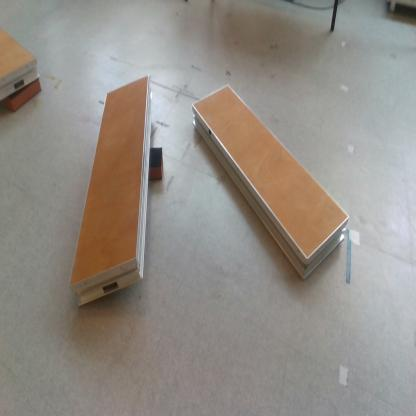Stairs: (190, 84, 351, 286), (69, 76, 156, 316), (1, 28, 39, 104)
